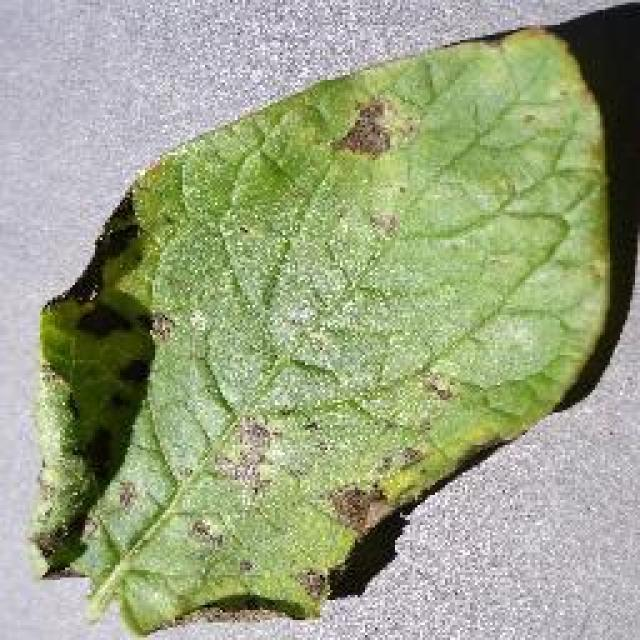early_blight: (22, 12, 622, 638)
